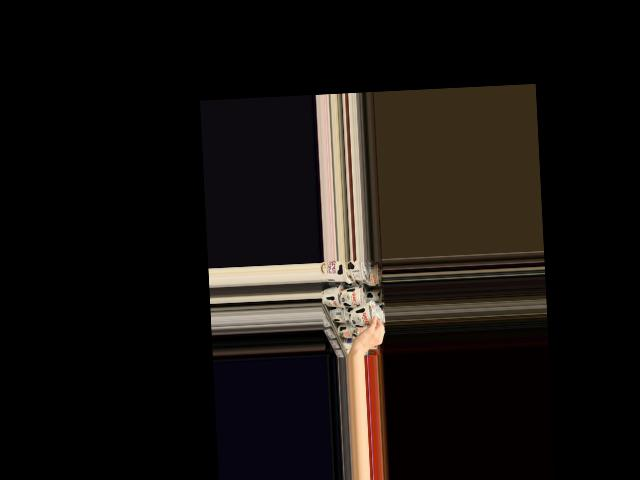cotage: (349, 300, 376, 326)
